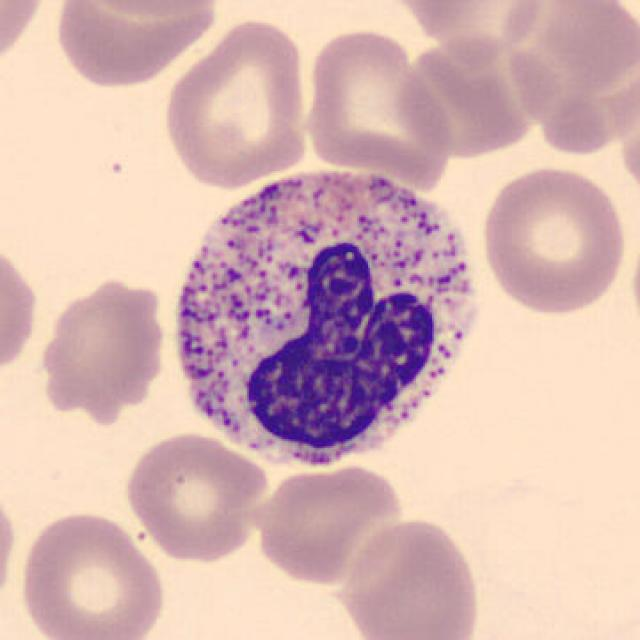Neutrophil: (156, 148, 496, 488)
RBC: (158, 14, 315, 192), (300, 25, 457, 187), (476, 160, 630, 318), (493, 0, 640, 156), (14, 506, 169, 640), (121, 428, 270, 564), (34, 272, 169, 422), (249, 460, 407, 587), (400, 34, 550, 162), (334, 515, 486, 640), (50, 0, 224, 92), (391, 0, 551, 65), (0, 234, 43, 381), (0, 0, 52, 76), (62, 0, 225, 19), (0, 480, 20, 617), (627, 202, 640, 354)
